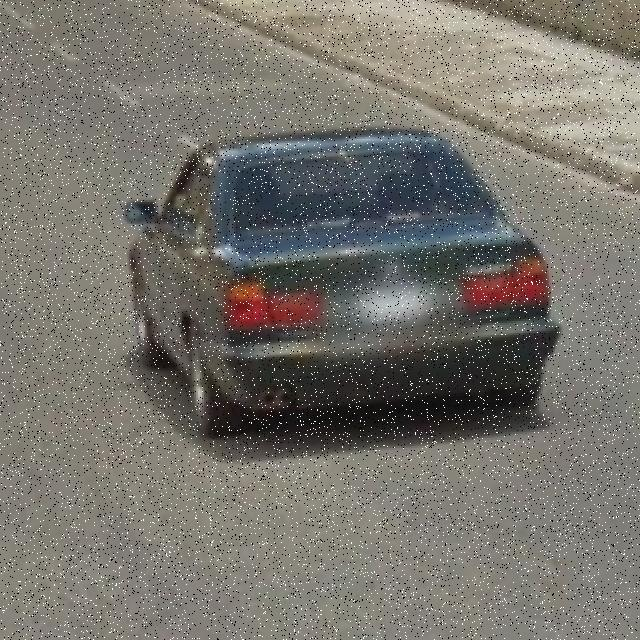cars: (123, 109, 566, 444)
